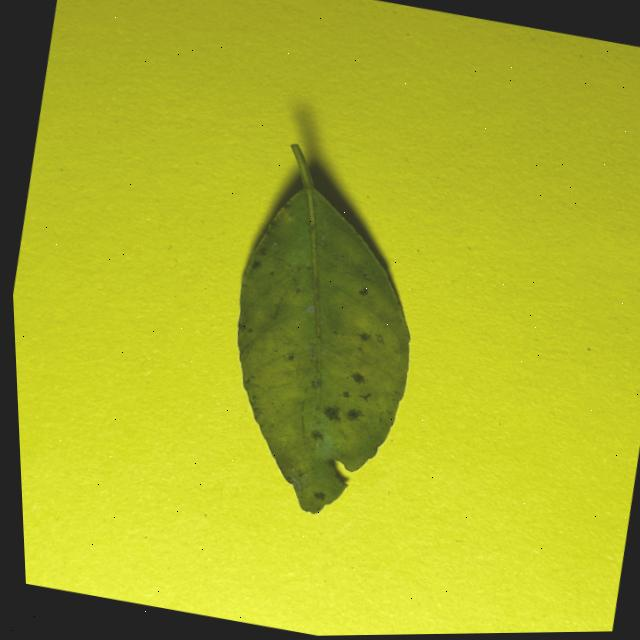sooty_mold: (237, 144, 409, 512)
